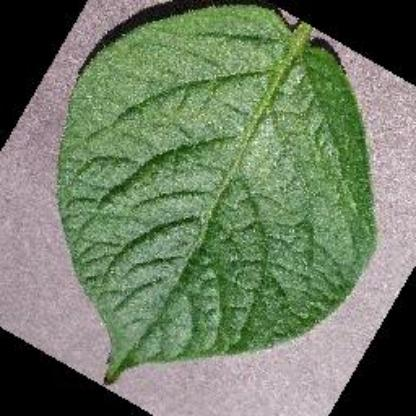Healthy-plant: (44, 2, 397, 395)
